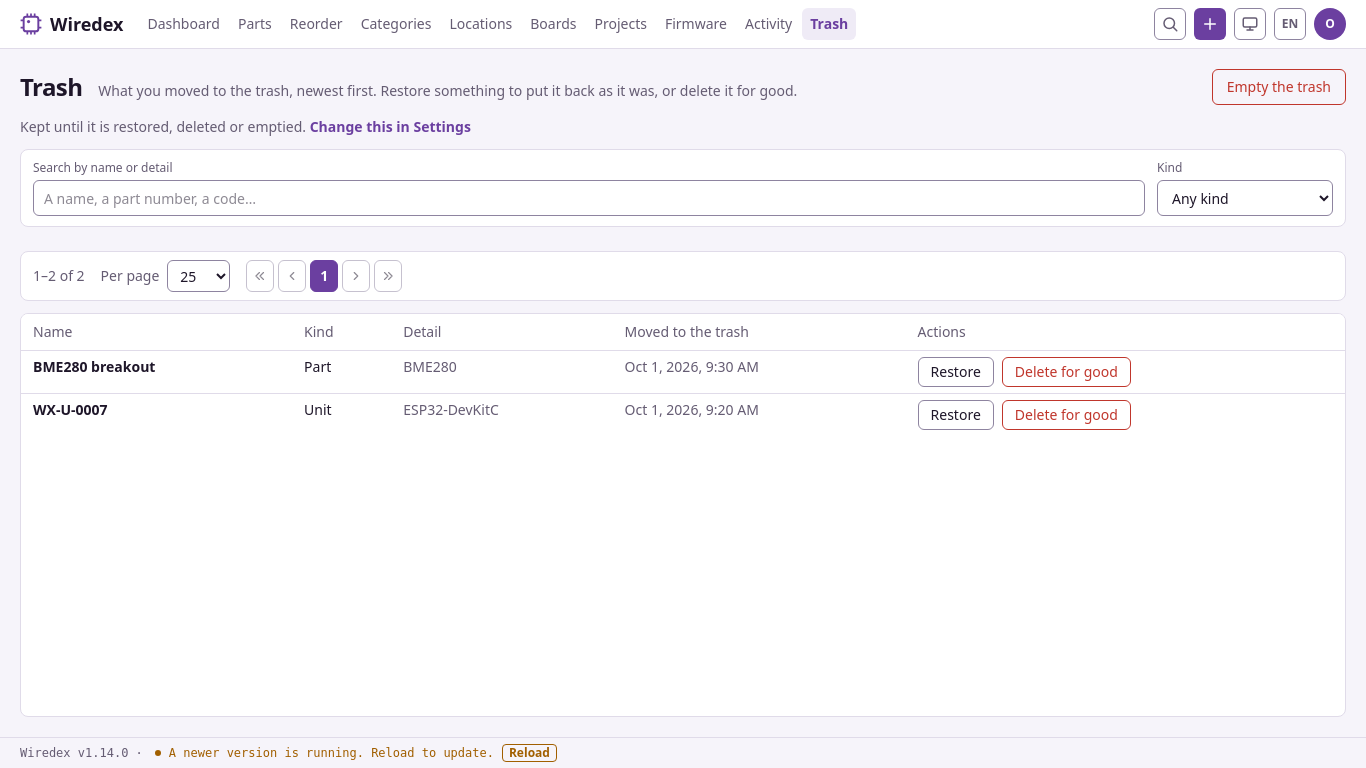
TrashPage › deletes a record for good once asked
Click the button with aria-label "Delete WX-U-0007 for good": (1066, 415) 1002,400 -> 1131,430
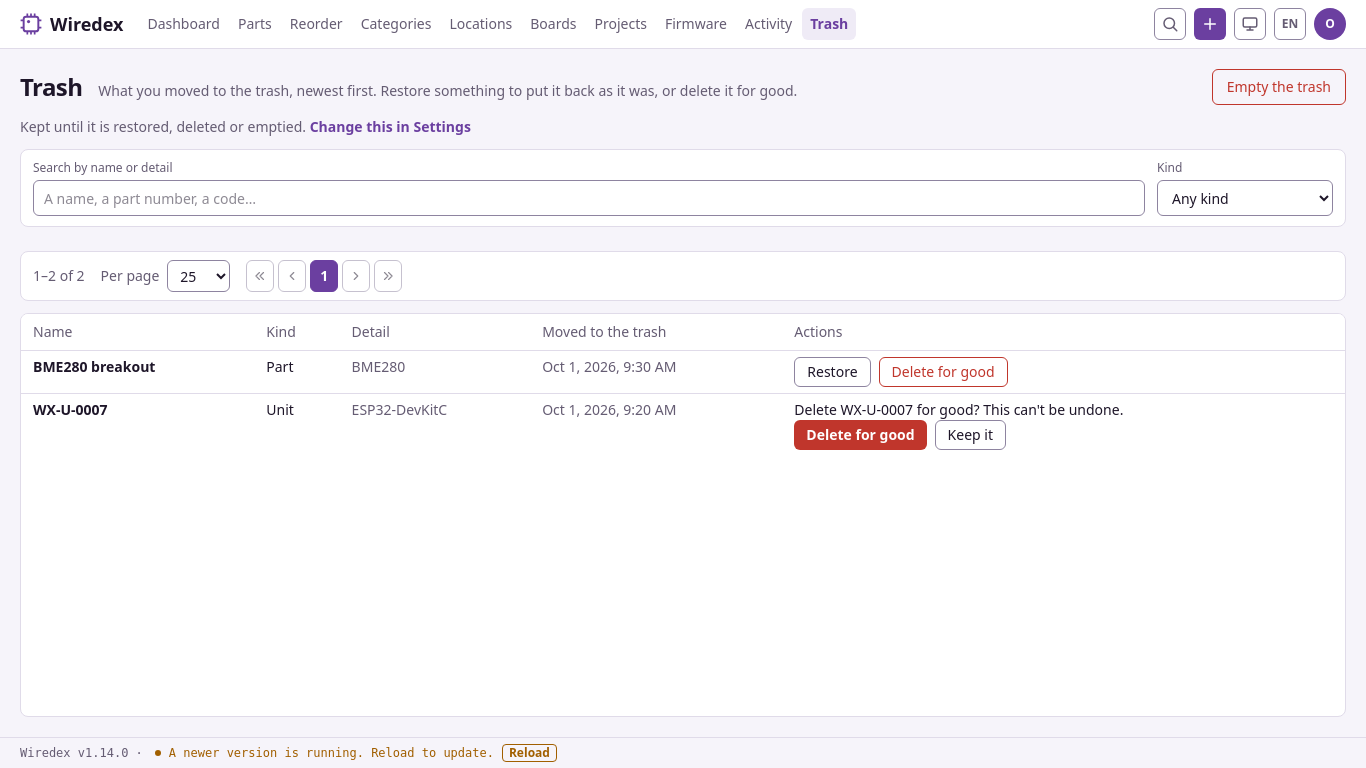
Click the button "Delete for good" below "Oct 1, 2026, 9:20 AM": (860, 435) 794,420 -> 927,450
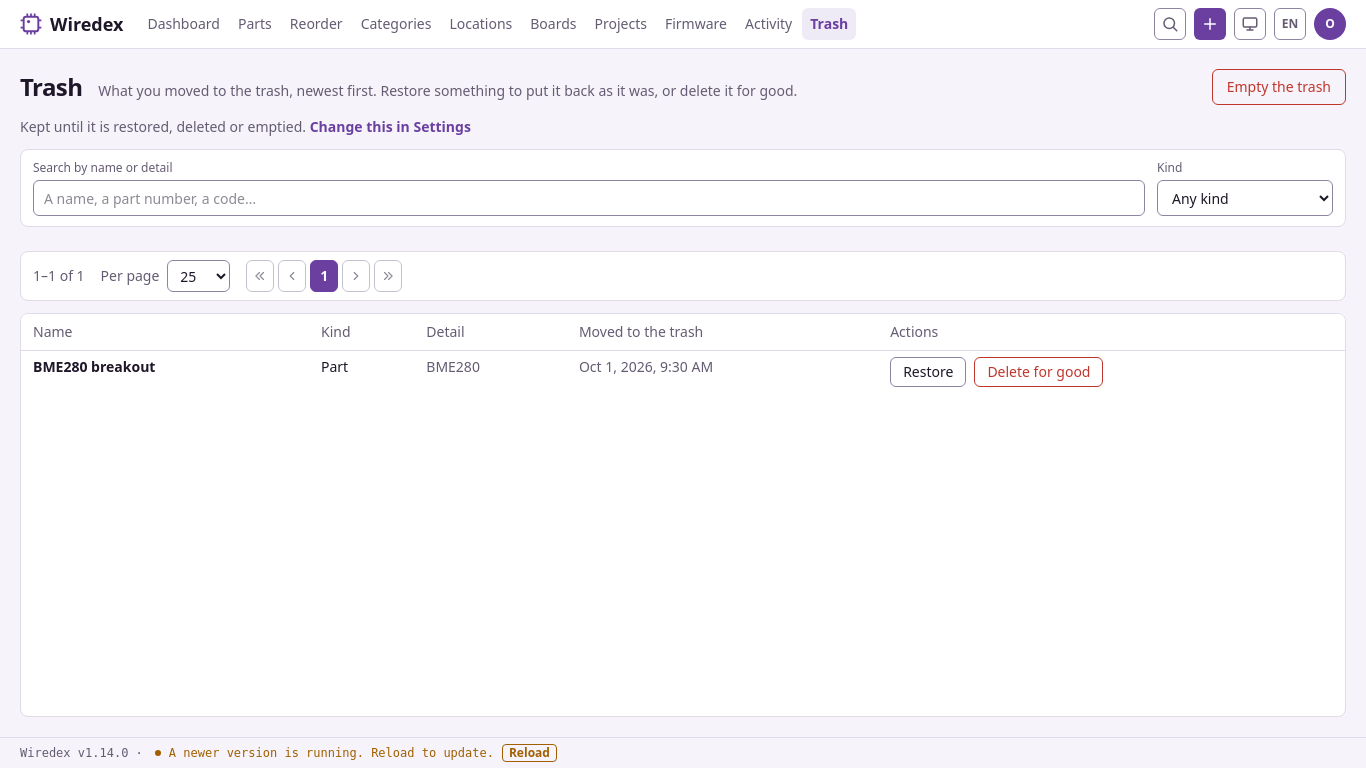
Expected: the column heading "WX-U-0007" is gone
